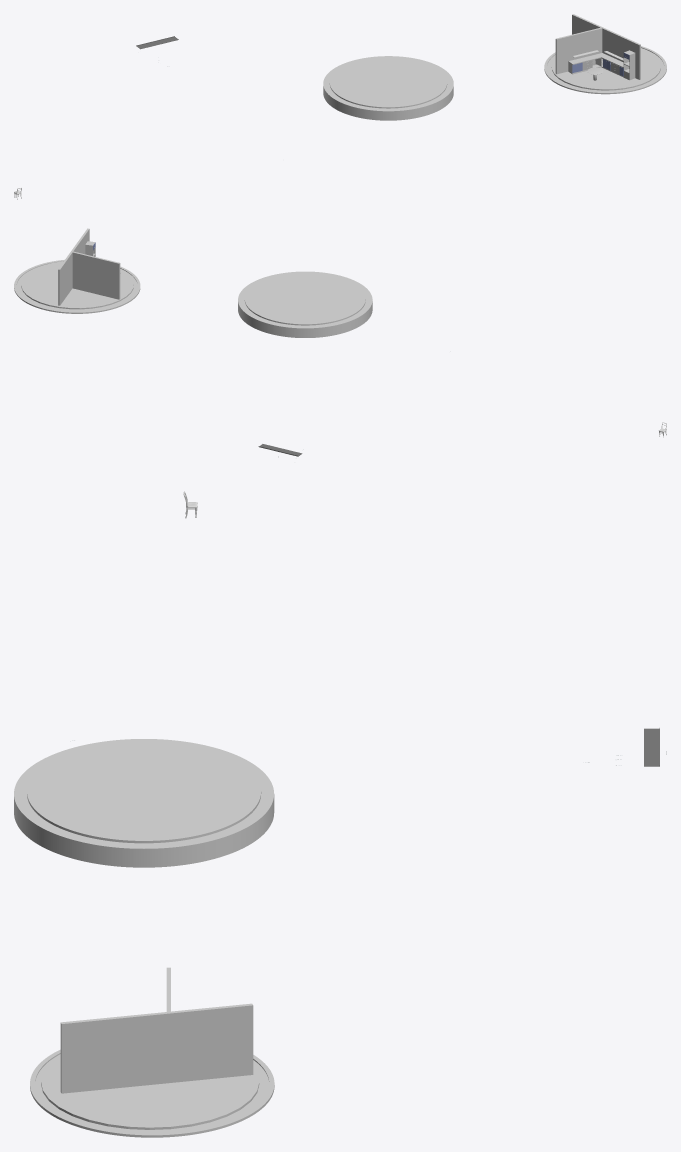
File: welcomingboard_sc kopyası_bugggg.fbx
The picture shows the model from 3 angles, top to bottom: view 1: azimuth 30°, elevation 25°; view 2: azimuth 150°, elevation 25°; view 3: azimuth 270°, elevation 25°; orthographic projection. The views are drawn at different scales.
Visible parts, largest first — view 1: Cylinder.003, Cylinder.002, Cylinder.001, Cube.003, Cube.005, Cylinder.006, Cube, Cube.006; view 2: Cylinder.003, Cylinder.002, Cylinder.001, Cube.003, Cylinder.006, Cube.005; view 3: Cylinder.003, Cube.005, Cylinder.002, Cylinder.001, Cylinder.006.
Part boxes in pixels (x1=…): Cylinder.003: x1=329, y1=57, x2=447, y2=108; Cylinder.002: x1=323, y1=56, x2=453, y2=120; Cylinder.001: x1=551, y1=48, x2=660, y2=90; Cube.003: x1=555, y1=27, x2=602, y2=74; Cube.005: x1=572, y1=14, x2=640, y2=79; Cylinder.006: x1=544, y1=46, x2=666, y2=94; Cube: x1=568, y1=53, x2=623, y2=67; Cube.006: x1=623, y1=50, x2=635, y2=80; Cylinder.003: x1=244, y1=273, x2=365, y2=325; Cylinder.002: x1=238, y1=271, x2=372, y2=337; Cylinder.001: x1=21, y1=261, x2=133, y2=309; Cube.003: x1=72, y1=251, x2=120, y2=299; Cylinder.006: x1=14, y1=259, x2=140, y2=313; Cube.005: x1=58, y1=228, x2=89, y2=305; Cylinder.003: x1=27, y1=742, x2=261, y2=843; Cube.005: x1=60, y1=1003, x2=253, y2=1093; Cylinder.002: x1=14, y1=739, x2=274, y2=867; Cylinder.001: x1=41, y1=1055, x2=259, y2=1129; Cylinder.006: x1=30, y1=1049, x2=274, y2=1137.
Bounding box in the file's own units: 5604 × 345 × 2510.
